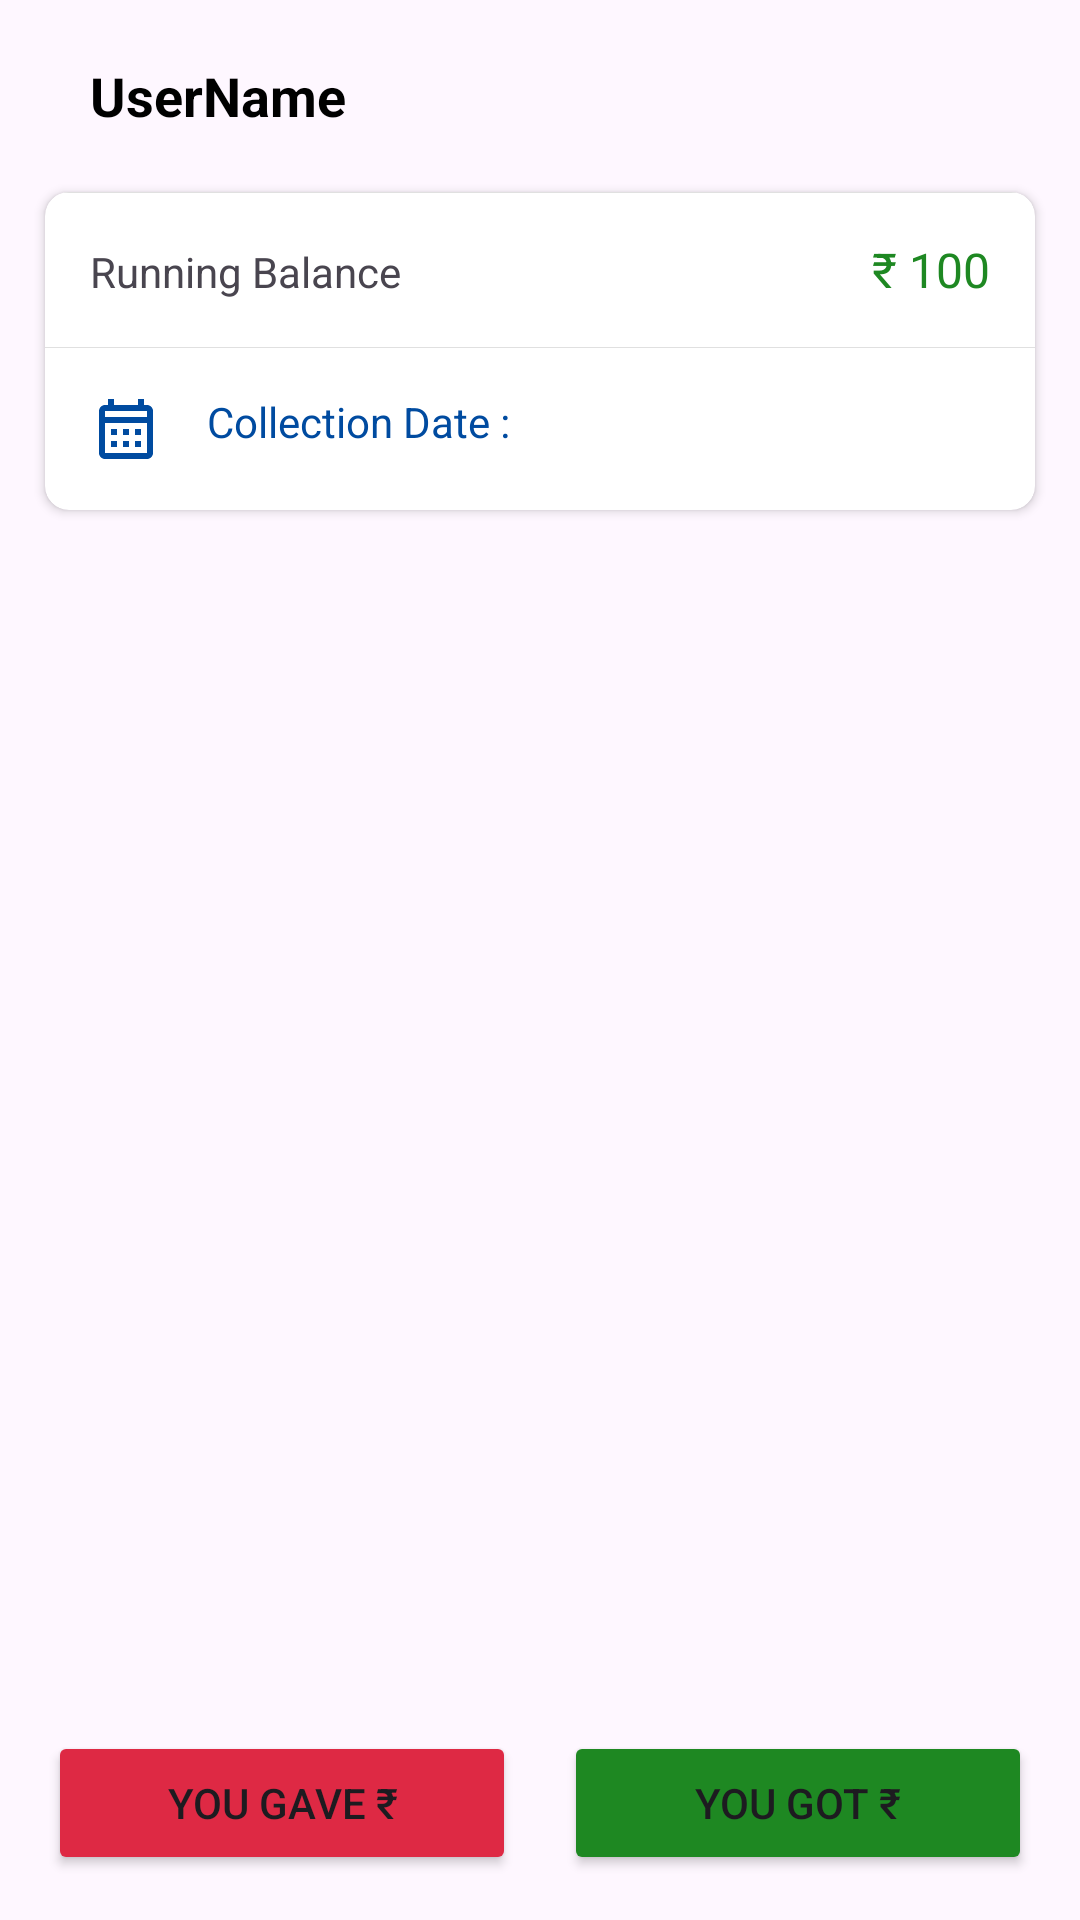

Icons on this 1080*1920 Android screen, each with its box as Rect(x1, y1, x2, y2):
calendar: Rect(99, 399, 153, 459)
